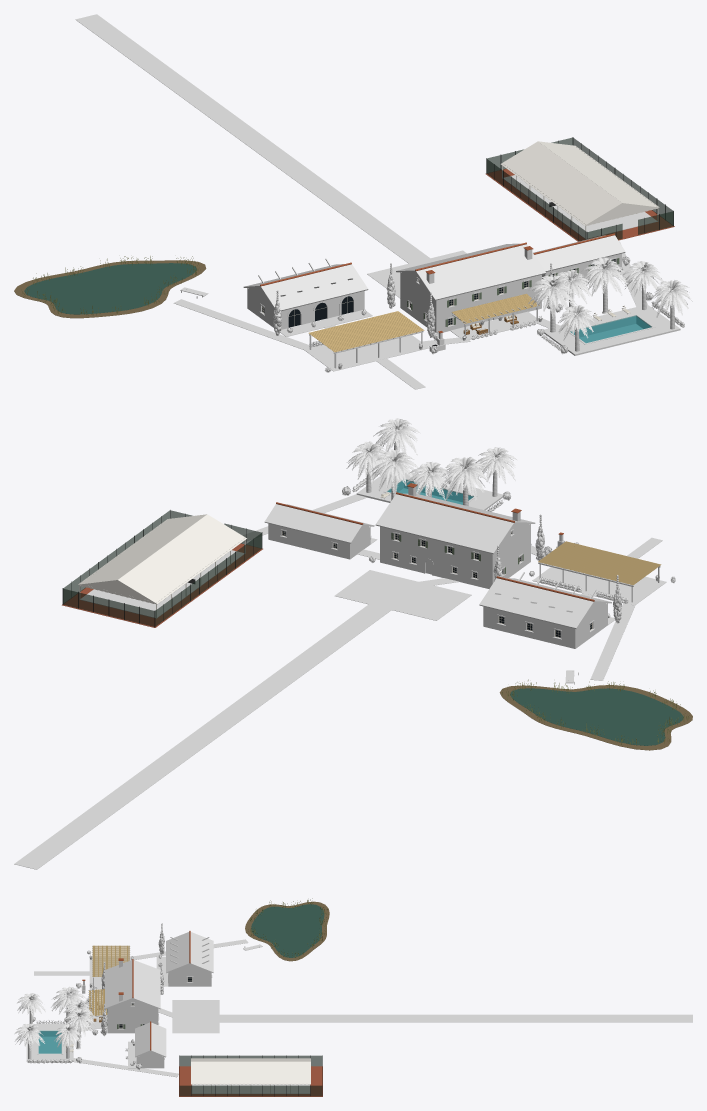
Rendered from venue.glb.
The picture shows the model from 3 angles, top to bottom: view 1: azimuth 30°, elevation 25°; view 2: azimuth 150°, elevation 25°; view 3: azimuth 270°, elevation 25°; orthographic projection. The views are drawn at different scales.
Visible parts, largest first — view 1: Paths, CARPA_canvas, Lake_water, ROOF_mas, Cane, Court_fence, ROOF_sala, Pool_deck, MASUP_walls, CARPA_floor, Lake_shore, ROOF_annex (+15 smaller); view 2: Paths, CARPA_canvas, Lake_water, ROOF_mas, Court_fence, ROOF_sala, Cane, Mas_walls_ground, Sala_walls, MASUP_walls, ROOF_annex, CARPA_floor (+11 smaller); view 3: Paths, CARPA_canvas, Lake_water, Court_fence, ROOF_mas, ROOF_sala, Cane, CARPA_floor, Court_outer, ROOF_annex, Lake_shore, MASUP_walls (+14 smaller).
Boxes of the visible parts, <box> form: Paths: <box>75,14,647,389</box>; CARPA_canvas: <box>500,141,659,225</box>; Lake_water: <box>24,263,196,314</box>; ROOF_mas: <box>396,243,545,300</box>; Cane: <box>308,293,539,352</box>; Court_fence: <box>486,137,673,241</box>; ROOF_sala: <box>243,264,368,311</box>; Pool_deck: <box>543,304,680,355</box>; MASUP_walls: <box>400,272,541,314</box>; CARPA_floor: <box>504,175,657,238</box>; Lake_shore: <box>14,260,206,318</box>; ROOF_annex: <box>533,235,625,271</box>; Paths: <box>14,494,666,869</box>; CARPA_canvas: <box>78,514,246,604</box>; Lake_water: <box>510,688,683,745</box>; ROOF_mas: <box>375,493,535,554</box>; Court_fence: <box>63,510,261,626</box>; ROOF_sala: <box>479,577,611,628</box>; Cane: <box>538,541,661,585</box>; Mas_walls_ground: <box>380,542,530,588</box>; Sala_walls: <box>483,602,607,648</box>; MASUP_walls: <box>380,523,530,569</box>; ROOF_annex: <box>264,504,374,543</box>; CARPA_floor: <box>80,550,244,617</box>; Paths: <box>34,939,692,1077</box>; CARPA_canvas: <box>191,1058,310,1084</box>; Lake_water: <box>251,904,324,957</box>; Court_fence: <box>179,1055,322,1096</box>; ROOF_mas: <box>105,960,160,1009</box>; ROOF_sala: <box>166,932,213,973</box>; Cane: <box>89,945,129,1015</box>; CARPA_floor: <box>192,1084,309,1093</box>; Court_outer: <box>179,1066,322,1096</box>; ROOF_annex: <box>135,1022,166,1057</box>; Lake_shore: <box>245,901,329,961</box>; MASUP_walls: <box>107,999,158,1019</box>.
Bounding box in the file's own units: 117 × 12.31 × 172.
